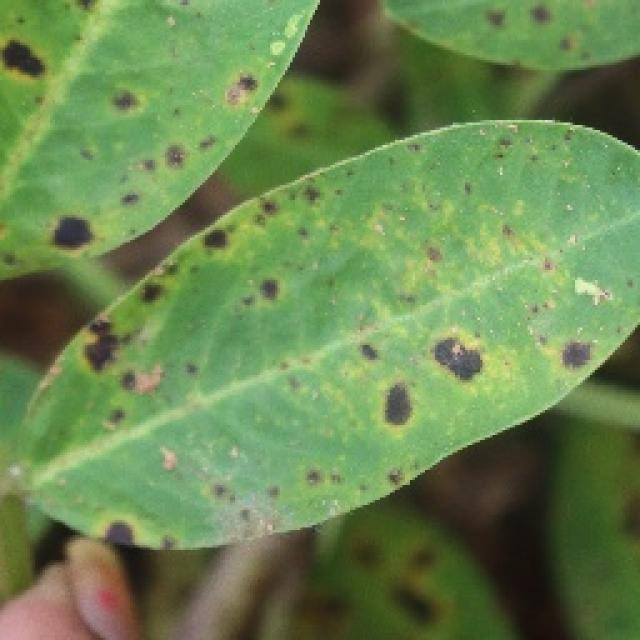Yellowish: (0, 3, 630, 555)
